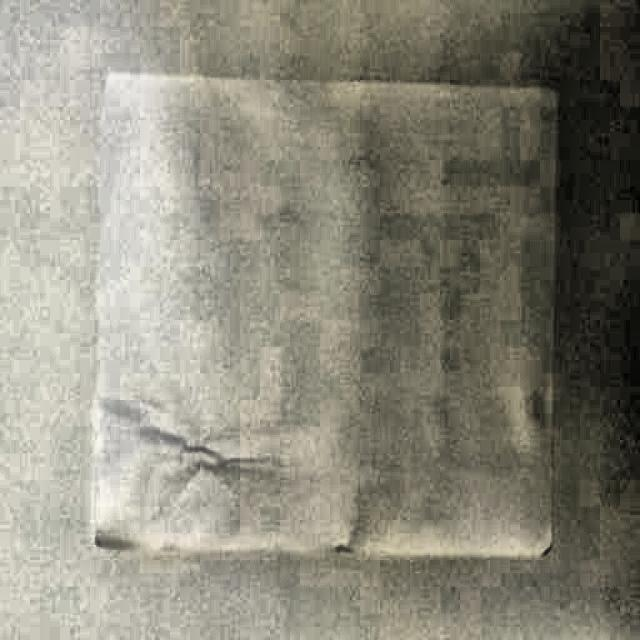paper: (89, 70, 556, 568)
